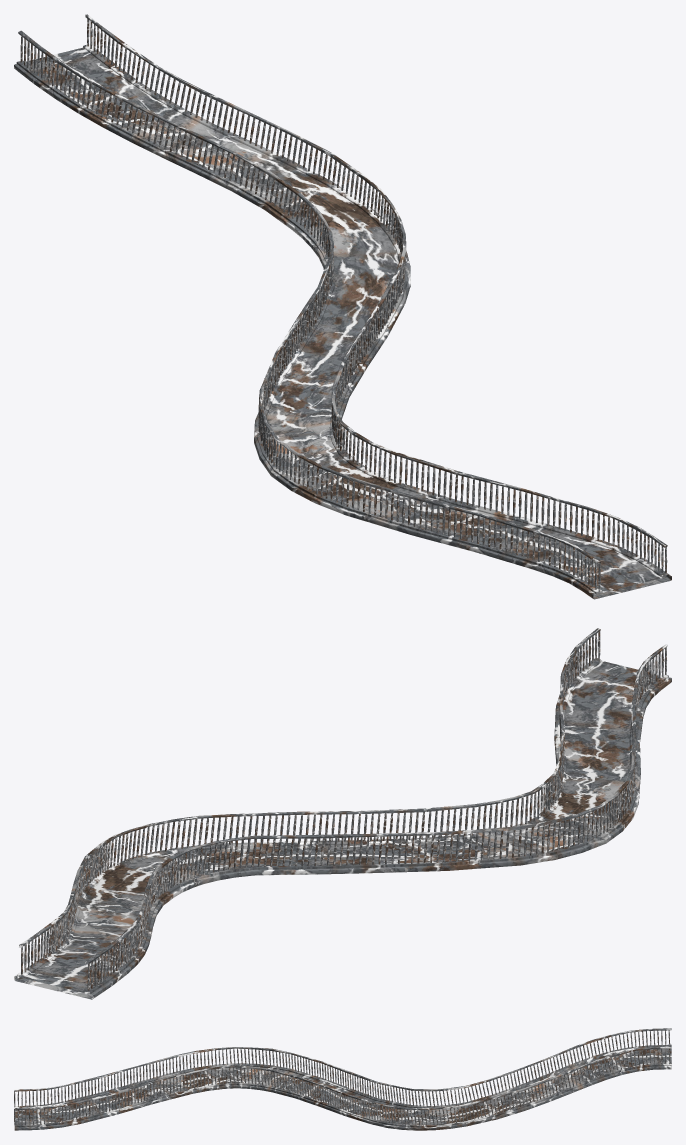
File: field_winter_road1.fbx
The picture shows the model from 3 angles, top to bottom: view 1: azimuth 30°, elevation 25°; view 2: azimuth 150°, elevation 25°; view 3: azimuth 270°, elevation 25°; orthographic projection. The views are drawn at different scales.
Parts seen in each view (by area): view 1: field_winter_road1; view 2: field_winter_road1; view 3: field_winter_road1.
Part boxes in pixels (left/top/right/bottom): field_winter_road1: left=14, top=14, right=671, bottom=599; field_winter_road1: left=14, top=628, right=671, bottom=999; field_winter_road1: left=14, top=1028, right=671, bottom=1130.
Bounding box in the file's own units: 1057 × 478 × 3473.
1 material, 1 textured.
